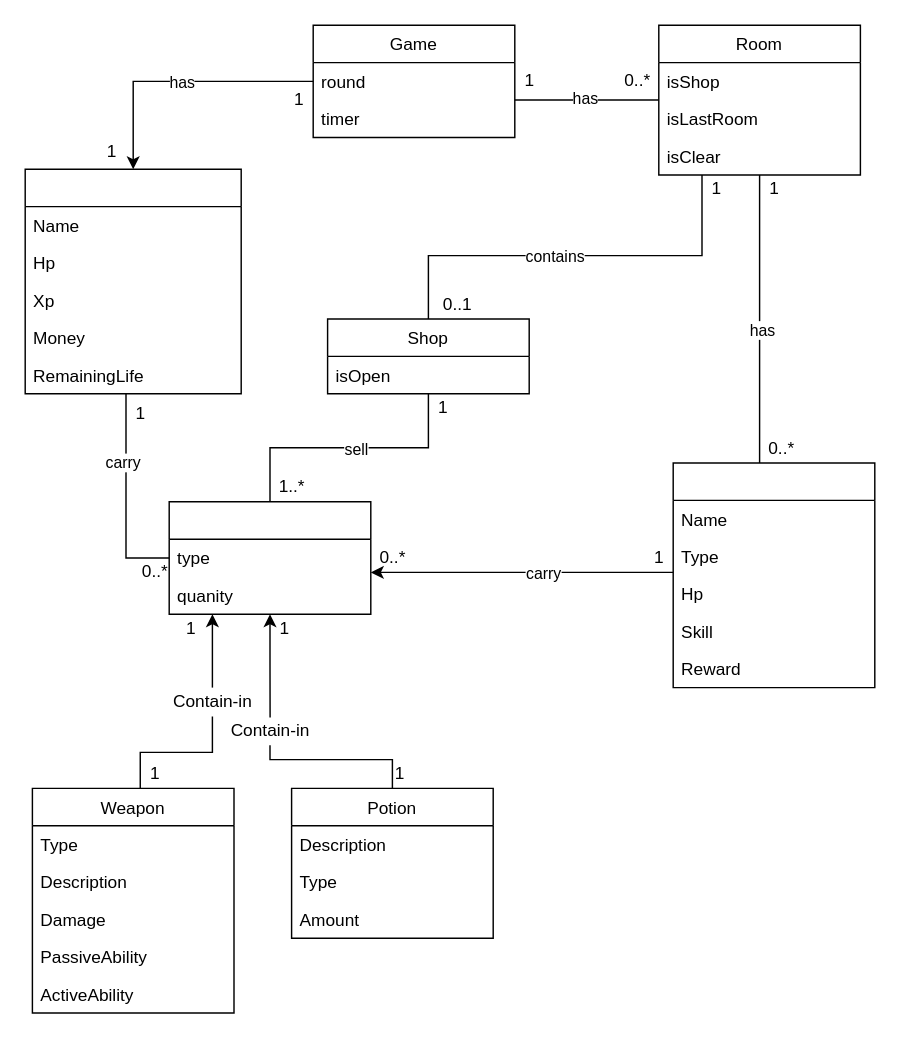
Some shapes in this 900 by 1043 pixel diagram are drawn without their labels. The box of each missing label's shape, as (x1, y1, x2, y2) in pixels:
Item: (168, 500, 371, 614)
Monster: (672, 462, 875, 688)
Player: (24, 168, 241, 394)
